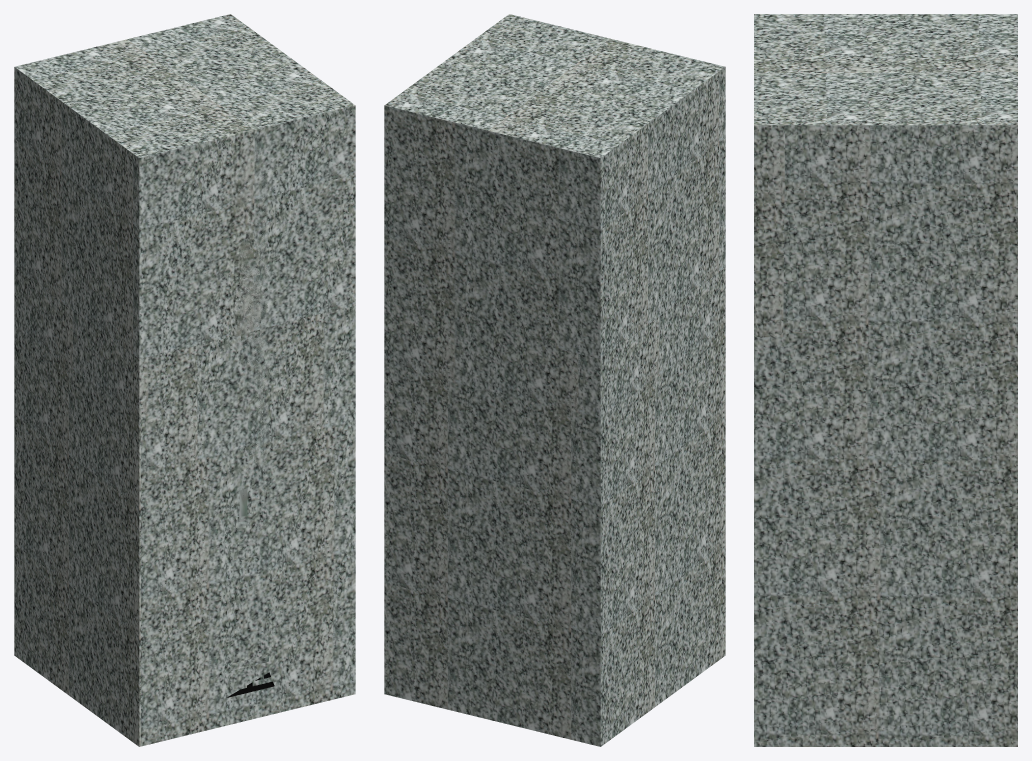
The model's file is miyatama_grave.fbx.
3 renders of one model, left to right at view 1: azimuth 30°, elevation 25°; view 2: azimuth 150°, elevation 25°; view 3: azimuth 270°, elevation 25°, orthographic. The views are drawn at different scales.
Visible parts, largest first — view 1: Cube; view 2: Cube; view 3: Cube.
Part boxes in pixels (x1,y1,x2,y2): Cube: (14,14,355,746); Cube: (384,14,725,746); Cube: (754,14,1017,746).
Size of the model in its own units: 1 by 2.6 by 1.
1 material, 1 textured.
